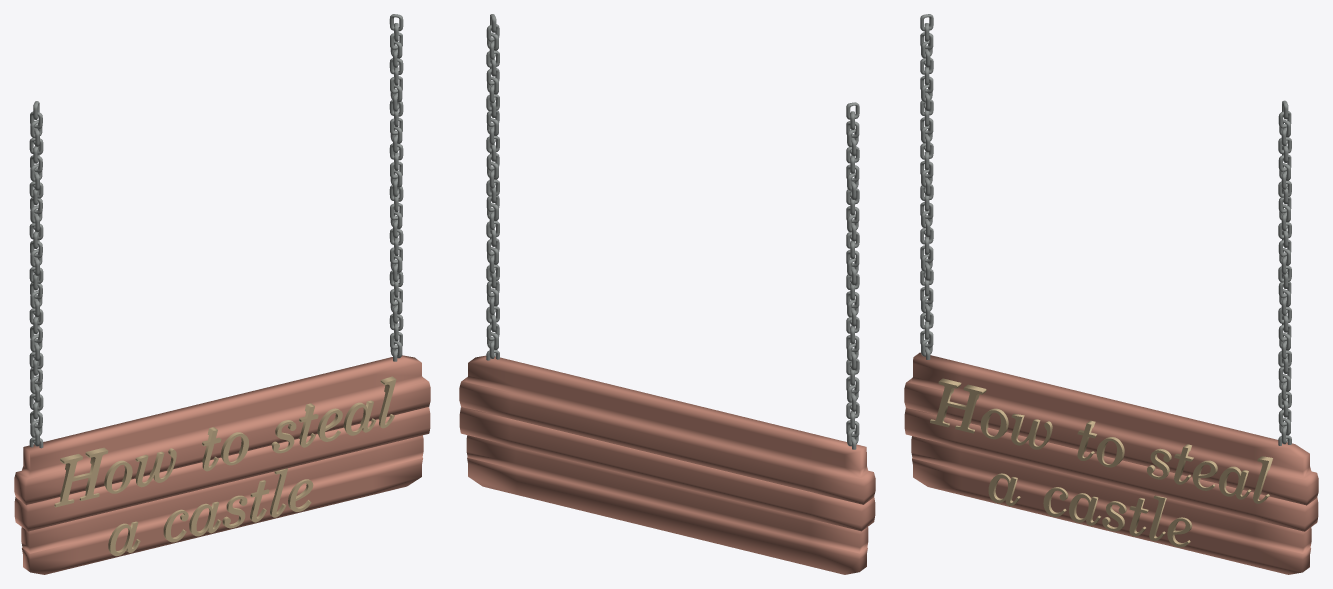
The model's file is VraiGrandSigne 1.fbx.
The picture shows the model from 3 angles, left to right: view 1: azimuth 30°, elevation 25°; view 2: azimuth 150°, elevation 25°; view 3: azimuth 330°, elevation 25°; orthographic projection.
Visible parts, largest first — view 1: Cube.025, Cube.018; view 2: Cube.025, Cube.018; view 3: Cube.025, Cube.018.
Part boxes in pixels (x1,y1,x2,y2): Cube.025: (14,355,430,574); Cube.018: (29,14,403,448); Cube.025: (459,355,875,574); Cube.018: (486,14,859,449); Cube.025: (904,352,1318,574); Cube.018: (920,14,1291,445).
Size of the model in its own units: 457 by 508 by 28.19.
